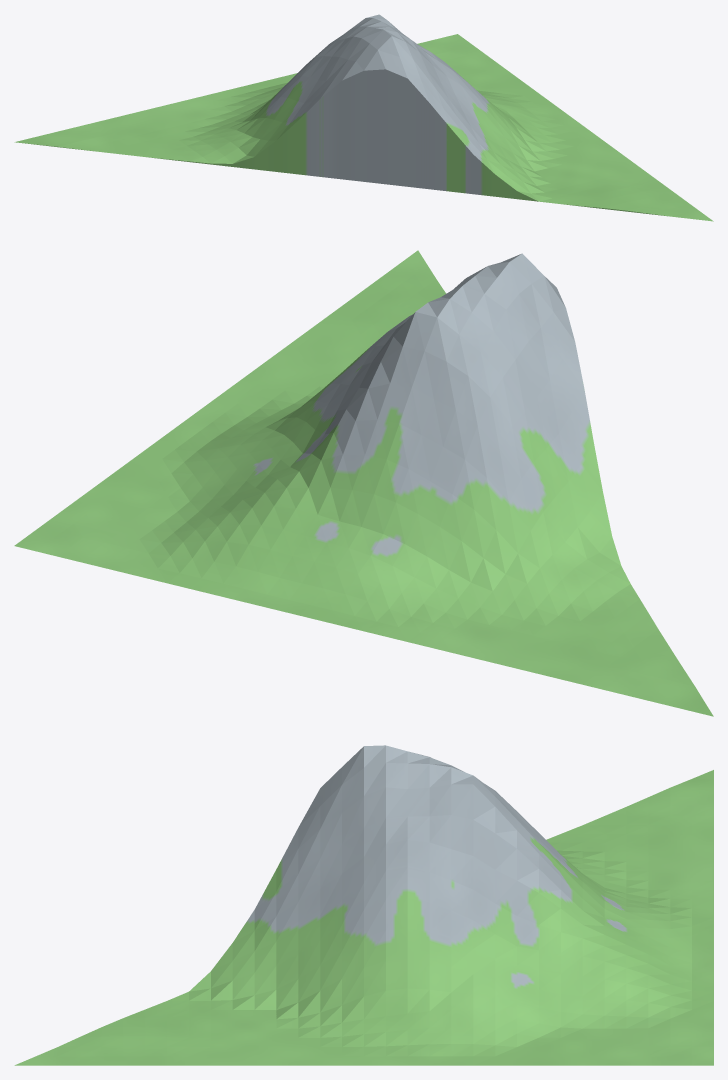
Rendered from Grass_RockyMountains_01_SE.obj.
3 renders of one model, top to bottom at view 1: azimuth 30°, elevation 25°; view 2: azimuth 150°, elevation 25°; view 3: azimuth 270°, elevation 25°, orthographic. The views are drawn at different scales.
Size of the model in its own units: 10 by 3.01 by 10.
1 material, 1 textured.
